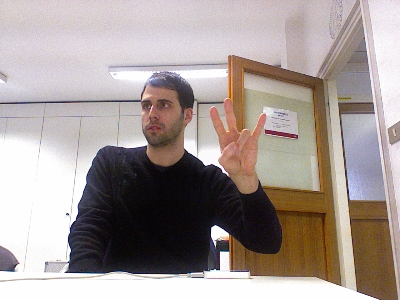观音: (208, 97, 266, 177)
